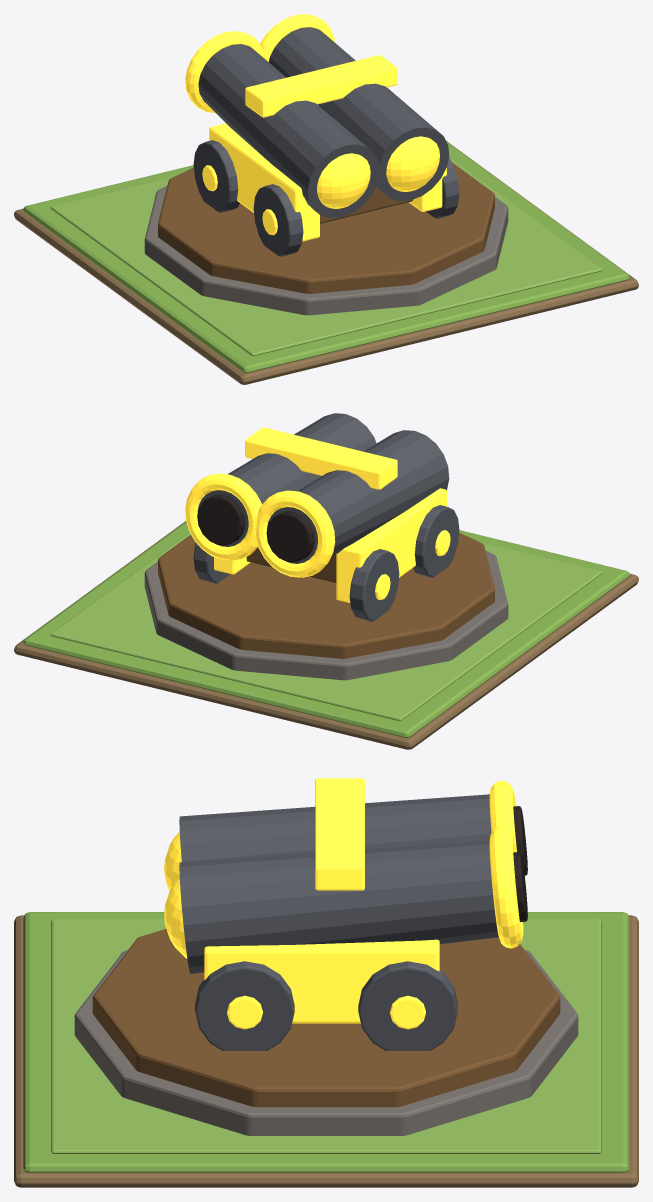
The model's file is double_cannon_lv6.glb.
3 renders of one model, top to bottom at view 1: azimuth 30°, elevation 25°; view 2: azimuth 150°, elevation 25°; view 3: azimuth 270°, elevation 25°, orthographic. The views are drawn at different scales.
Visible parts, largest first — view 1: TurntableWood, Base_Inner, Base_Grass, TwinBarrel_-1, TurntableStone, TwinBarrel_1, Base_Dirt, TwinYokeStrap, DC_Cheek_-1, DC_Wheel_-1_-1, TwinBreech_1, TwinBreech_-1 (+6 smaller); view 2: TurntableWood, Base_Inner, Base_Grass, TurntableStone, TwinBarrel_-1, Base_Dirt, TwinBarrel_1, TwinYokeStrap, DC_Cheek_-1, TwinMuzzleLip_-1, TwinMuzzleLip_1, DC_Wheel_-1_1 (+5 smaller); view 3: TurntableWood, Base_Inner, TwinBarrel_1, Base_Grass, TurntableStone, Base_Dirt, TwinBarrel_-1, DC_Cheek_1, DC_Wheel_1_1, DC_Wheel_1_-1, TwinYokeStrap, TwinMuzzleLip_1 (+7 smaller).
Part boxes in pixels (box(x1,y1,x2,y2)): TurntableWood: box(158, 162, 494, 293); Base_Inner: box(50, 157, 602, 356); Base_Grass: box(23, 141, 629, 372); TwinBarrel_-1: box(198, 44, 379, 218); TurntableStone: box(144, 186, 508, 315); TwinBarrel_1: box(269, 27, 449, 201); Base_Dirt: box(14, 140, 638, 384); TwinYokeStrap: box(245, 55, 397, 117); DC_Cheek_-1: box(209, 123, 319, 241); DC_Wheel_-1_-1: box(253, 184, 303, 256); TwinBreech_1: box(386, 136, 439, 191); TwinBreech_-1: box(317, 153, 370, 208); TurntableWood: box(158, 532, 494, 658); Base_Inner: box(50, 532, 602, 721); Base_Grass: box(23, 521, 629, 737); TurntableStone: box(144, 551, 508, 680); TwinBarrel_-1: box(267, 430, 449, 563); Base_Dirt: box(14, 521, 638, 749); TwinBarrel_1: box(197, 413, 376, 546); TwinYokeStrap: box(245, 427, 397, 489); DC_Cheek_-1: box(336, 488, 446, 602); TwinMuzzleLip_-1: box(256, 490, 335, 577); TwinMuzzleLip_1: box(185, 473, 261, 560); DC_Wheel_-1_1: box(349, 549, 399, 621); TurntableWood: box(92, 929, 560, 1107); Base_Inner: box(51, 919, 601, 1153); TwinBarrel_1: box(179, 840, 498, 973); Base_Grass: box(23, 912, 629, 1172); TurntableStone: box(74, 950, 578, 1135); Base_Dirt: box(14, 915, 638, 1187); TwinBarrel_-1: box(179, 794, 491, 861); DC_Cheek_1: box(204, 939, 439, 1023); DC_Wheel_1_1: box(358, 961, 457, 1050); DC_Wheel_1_-1: box(195, 961, 294, 1050); TwinYokeStrap: box(315, 778, 364, 890); TwinMuzzleLip_1: box(489, 827, 523, 948).
Size of the model in its own units: 2.76 by 1.21 by 2.76.
